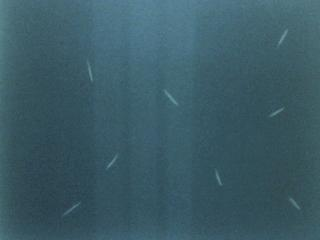scratch: (159, 86, 184, 109), (59, 198, 83, 219), (83, 54, 97, 85), (284, 193, 301, 213), (275, 26, 289, 49), (105, 151, 120, 171), (265, 103, 285, 118), (211, 166, 223, 188)
